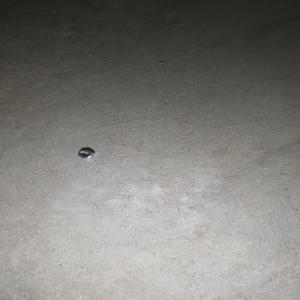Nut: (77, 149, 94, 159)
